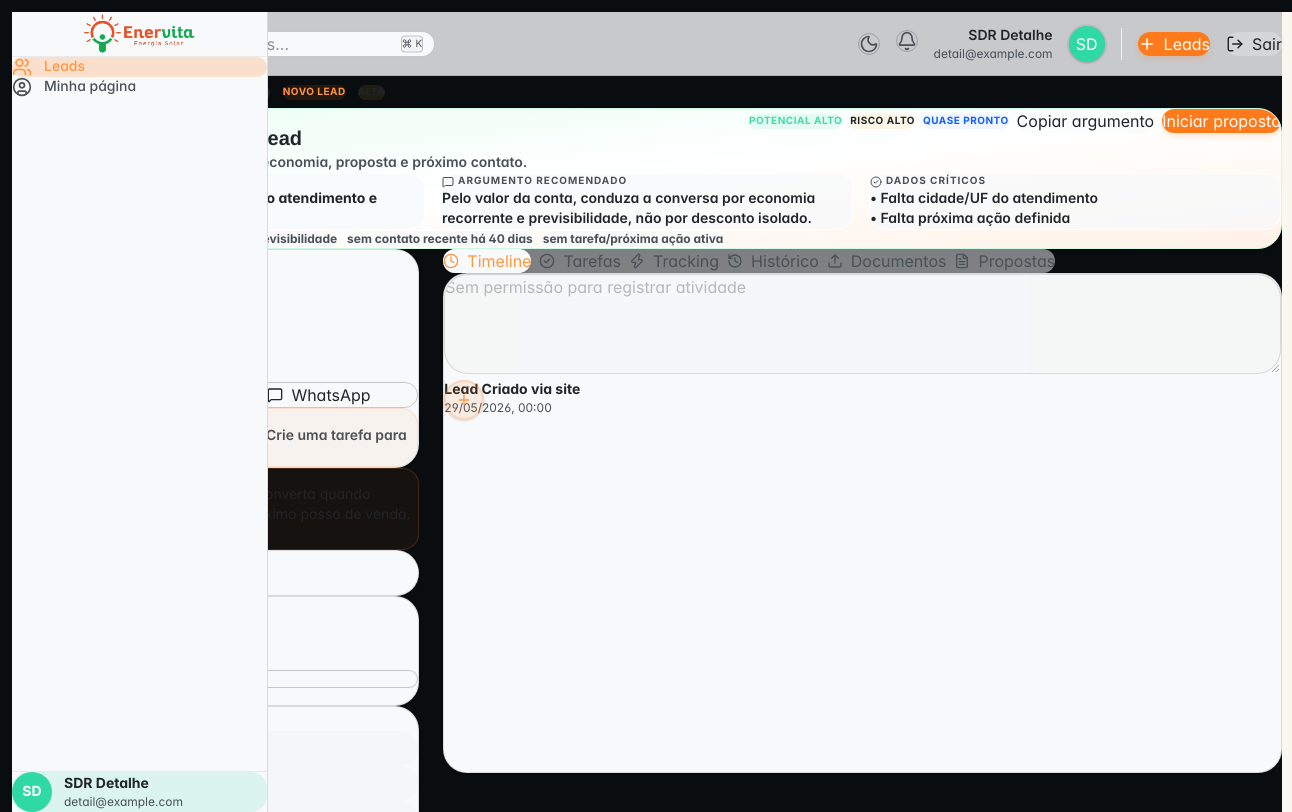
Lead detail history tab › shows an empty state when no history is returned
Expected: the heading "Lead com Histórico" is shown, [48,76,271,108]
Click the button "Histórico".
click(773, 261)  # box [727,249,819,273]
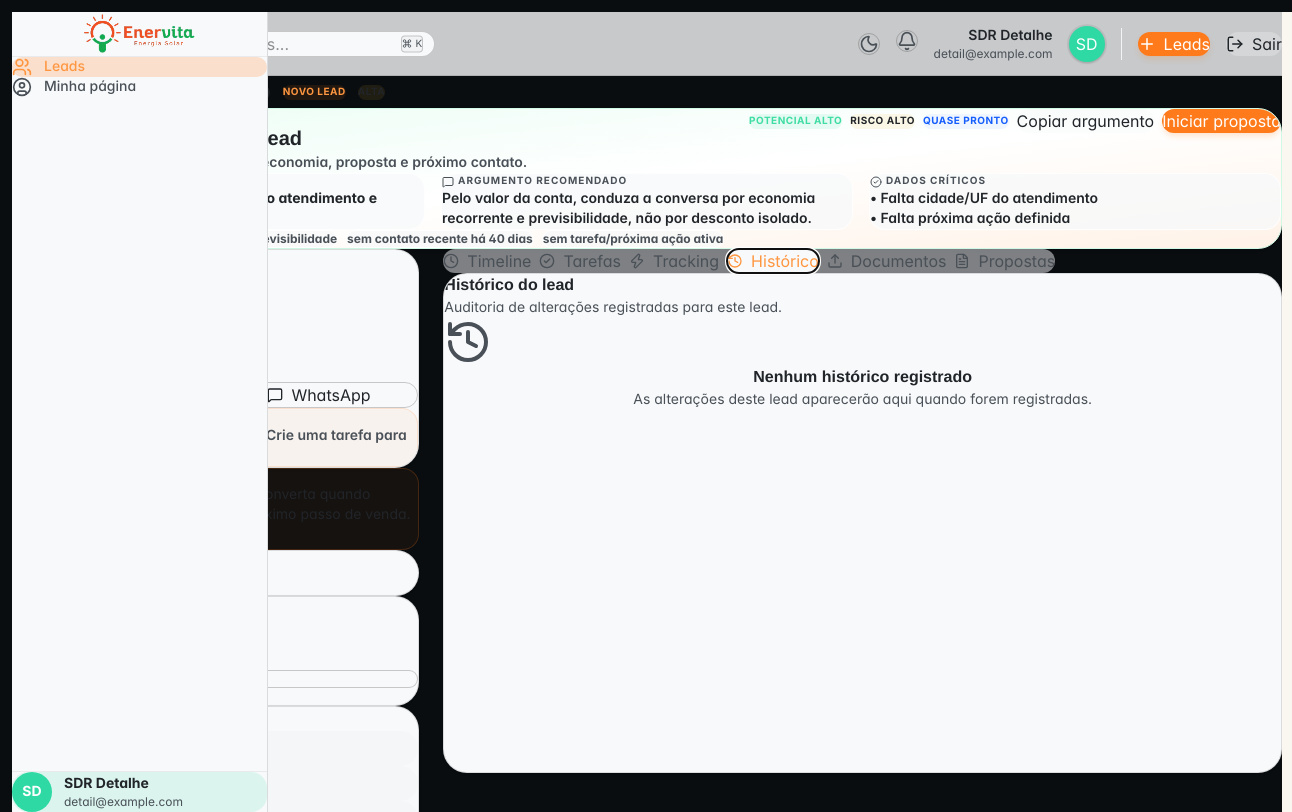
Expected: the heading "Nenhum histórico registrado" is shown, [753,369,972,386]
